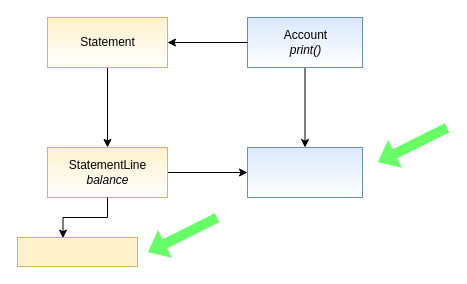
This 467x284 diagram has some shape labels left out. Here are the shapes that lost their labels. From the top down, the centre of each, then its label:
At pixel 304 172: "Transaction amount, date".
At pixel 77 251: "<<function>> formattedDate".
